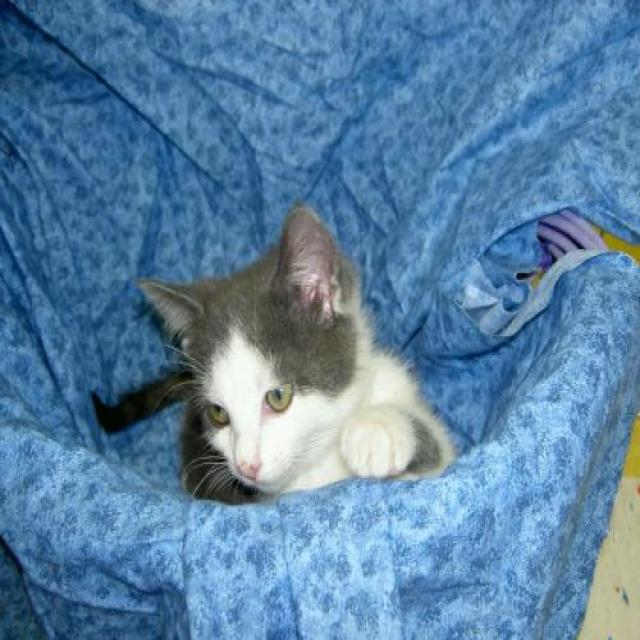Cats: (90, 202, 457, 506)
